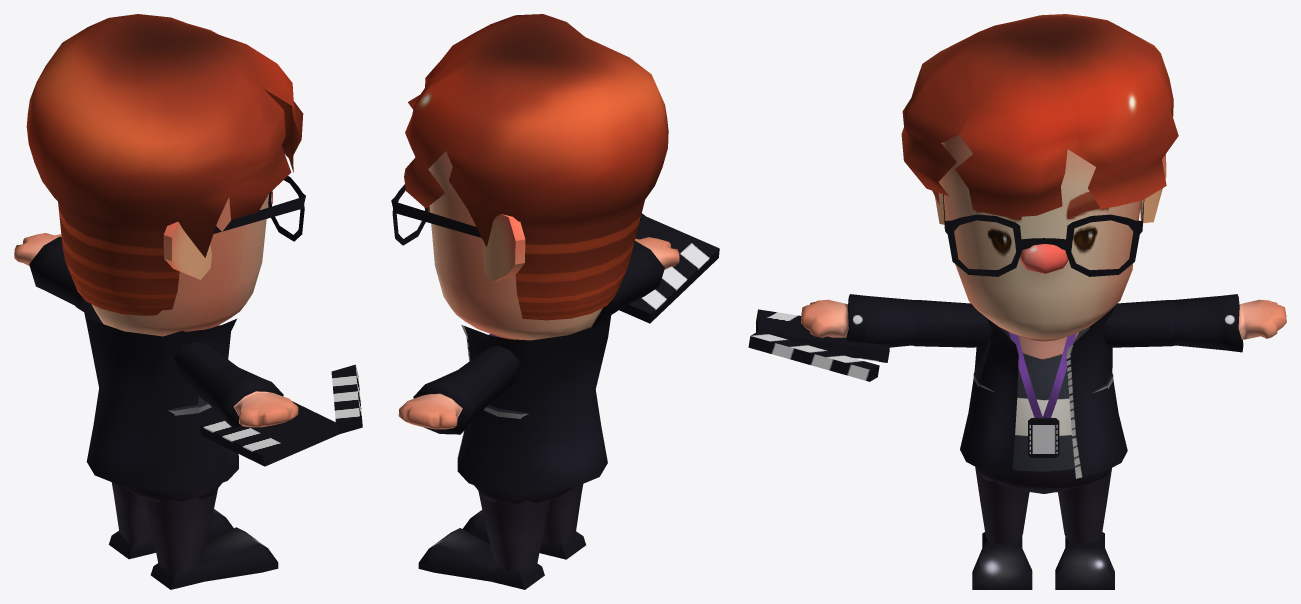
Rendered from Char_Cre_Ent_05.fbx.
3 renders of one model, left to right at view 1: azimuth 30°, elevation 25°; view 2: azimuth 150°, elevation 25°; view 3: azimuth 270°, elevation 25°, orthographic.
Visible parts, largest first — view 1: Hair_Producer, Jacket_Producer, Head_Producer, R_Leg_Producer, Board_Producer, R_Arm_Producer, L_Leg_Producer, L_Arm_Producer, R_Ear_Producer, Spectacle_Producer, Body_Producer; view 2: Hair_Producer, Jacket_Producer, Head_Producer, L_Leg_Producer, L_Arm_Producer, Board_Producer, R_Leg_Producer, R_Arm_Producer, L_Ear_Producer, Spectacle_Producer, Body_Producer; view 3: Hair_Producer, Head_Producer, Jacket_Producer, L_Arm_Producer, R_Arm_Producer, Body_Producer, R_Leg_Producer, L_Leg_Producer, Board_Producer, Spectacle_Producer, String_Producer, Nametag_Producer (+1 smaller).
Part boxes in pixels (left/top/right/bottom): Hair_Producer: left=26, top=14, right=303, bottom=315; Jacket_Producer: left=81, top=297, right=238, bottom=492; Head_Producer: left=91, top=194, right=269, bottom=336; R_Leg_Producer: left=145, top=488, right=278, bottom=589; Board_Producer: left=199, top=364, right=362, bottom=466; R_Arm_Producer: left=174, top=342, right=298, bottom=428; L_Leg_Producer: left=109, top=482, right=233, bottom=559; L_Arm_Producer: left=14, top=233, right=83, bottom=311; R_Ear_Producer: left=163, top=221, right=211, bottom=279; Spectacle_Producer: left=213, top=176, right=305, bottom=241; Body_Producer: left=120, top=396, right=221, bottom=501; Hair_Producer: left=404, top=14, right=668, bottom=320; Jacket_Producer: left=457, top=301, right=612, bottom=494; Head_Producer: left=428, top=151, right=602, bottom=340; L_Leg_Producer: left=418, top=491, right=550, bottom=589; L_Arm_Producer: left=398, top=346, right=520, bottom=434; Board_Producer: left=619, top=213, right=719, bottom=323; R_Leg_Producer: left=462, top=484, right=585, bottom=559; R_Arm_Producer: left=611, top=237, right=679, bottom=314; L_Ear_Producer: left=482, top=214, right=525, bottom=282; Spectacle_Producer: left=391, top=184, right=481, bottom=245; Body_Producer: left=474, top=405, right=573, bottom=504; Hair_Producer: left=901, top=14, right=1178, bottom=217; Head_Producer: left=940, top=134, right=1141, bottom=341; Jacket_Producer: left=960, top=306, right=1127, bottom=478; L_Arm_Producer: left=1089, top=294, right=1286, bottom=352; R_Arm_Producer: left=801, top=294, right=992, bottom=347; Body_Producer: left=973, top=327, right=1113, bottom=493; R_Leg_Producer: left=972, top=467, right=1032, bottom=589; L_Leg_Producer: left=1055, top=468, right=1114, bottom=589; Board_Producer: left=748, top=309, right=889, bottom=381; Spectacle_Producer: left=943, top=194, right=1144, bottom=276; String_Producer: left=1008, top=332, right=1076, bottom=417; Nametag_Producer: left=1028, top=418, right=1059, bottom=457.
Bounding box in the file's own units: 3.93 × 7.95 × 7.47.
